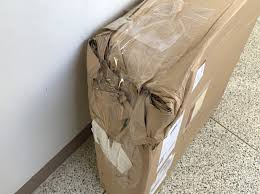damaged package: (84, 31, 182, 152)
